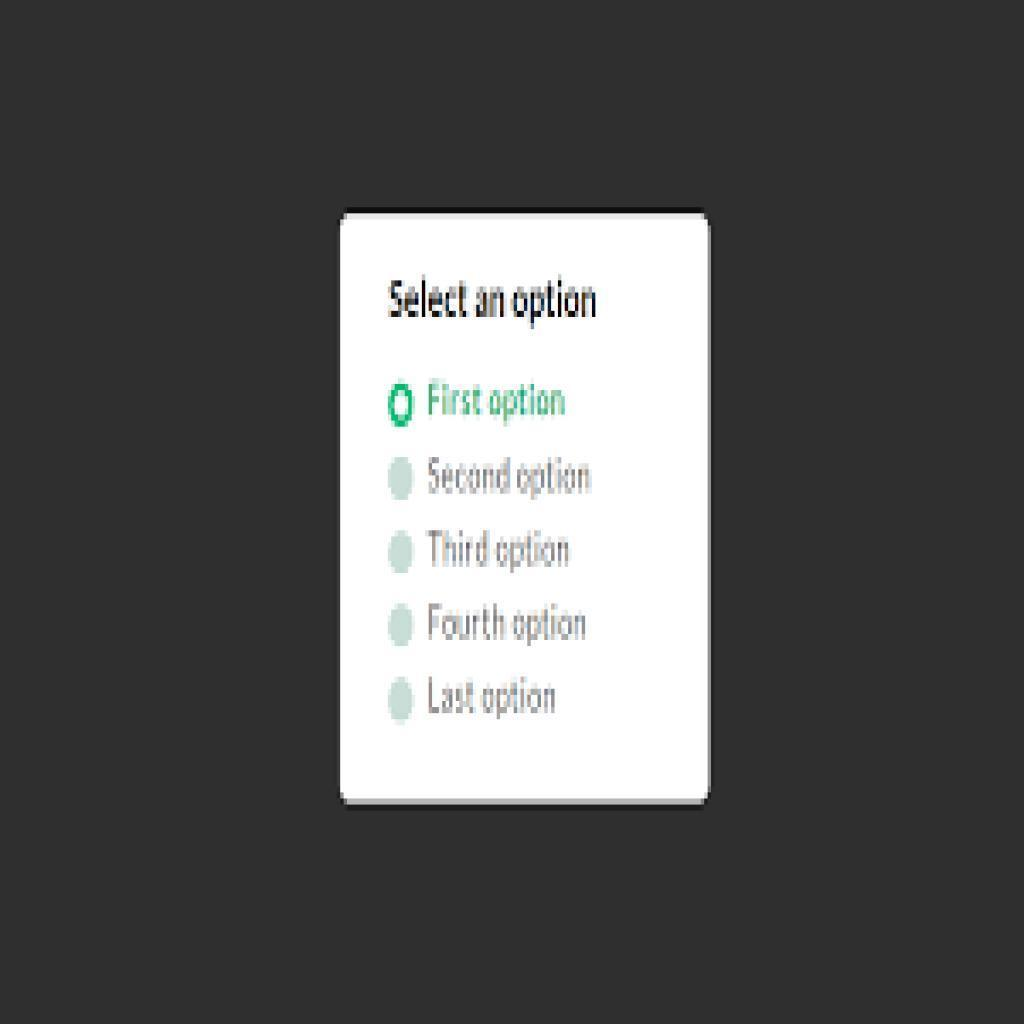label: (425, 455, 596, 506), (424, 525, 572, 577), (427, 601, 589, 646), (422, 672, 560, 724), (424, 377, 570, 426)
radio: (386, 375, 419, 437), (386, 453, 420, 504), (384, 529, 418, 580), (387, 676, 417, 725), (387, 603, 417, 651)
